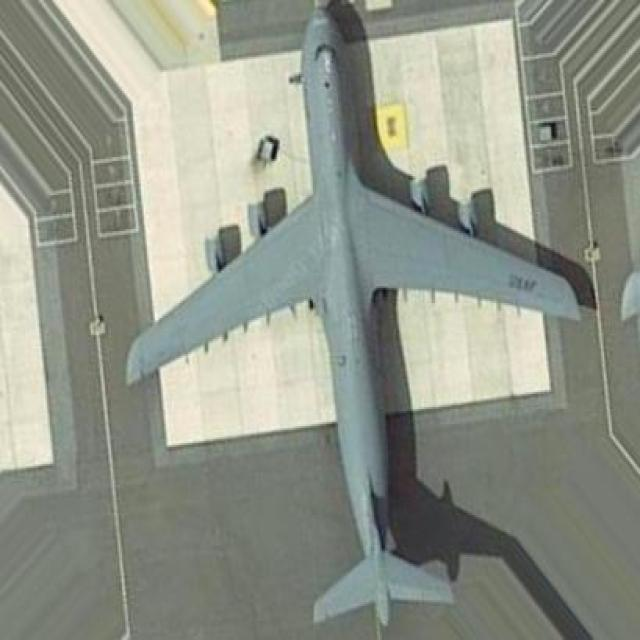C-5_TopDown: (123, 0, 598, 638)
